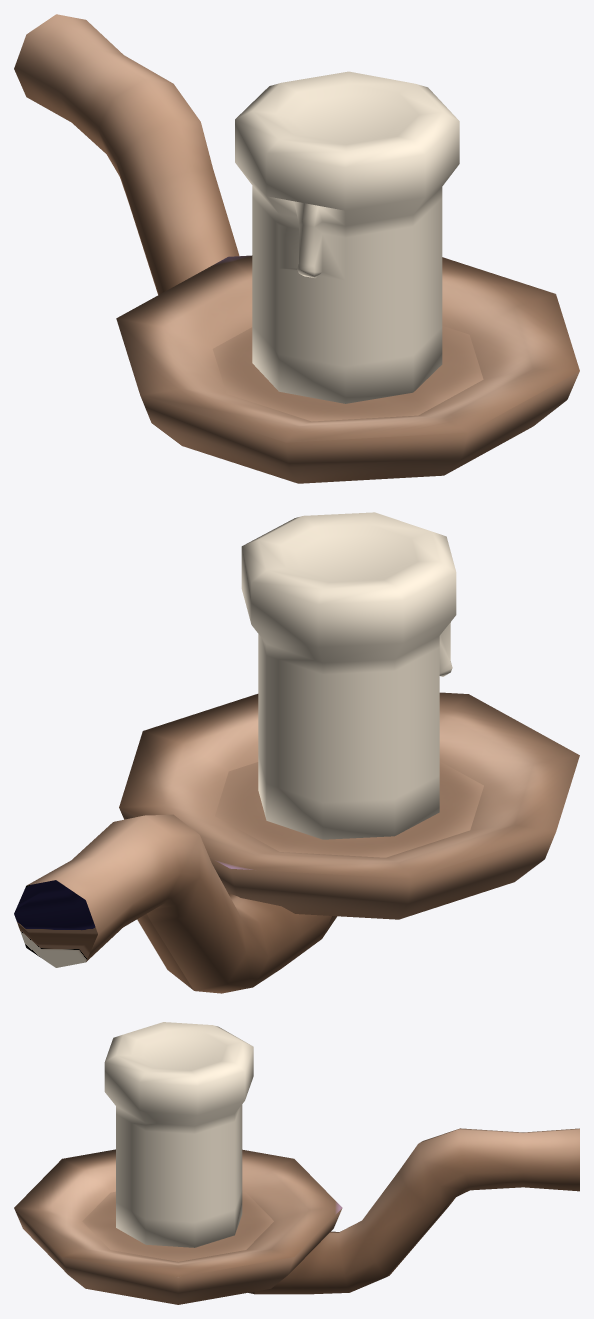
Rendered from candle.FBX.
3 views of the same model, one above another, from view 1: azimuth 30°, elevation 25°; view 2: azimuth 150°, elevation 25°; view 3: azimuth 270°, elevation 25° (orthographic). The views are drawn at different scales.
Visible parts, largest first — view 1: Object; view 2: Object; view 3: Object.
Boxes of the visible parts, x1,y1,x2,y2 form: Object: (14,14,579,483); Object: (14,512,579,993); Object: (14,1022,579,1304).
Size of the model in its own units: 32.17 by 26.35 by 55.42.
1 material, 1 textured.
